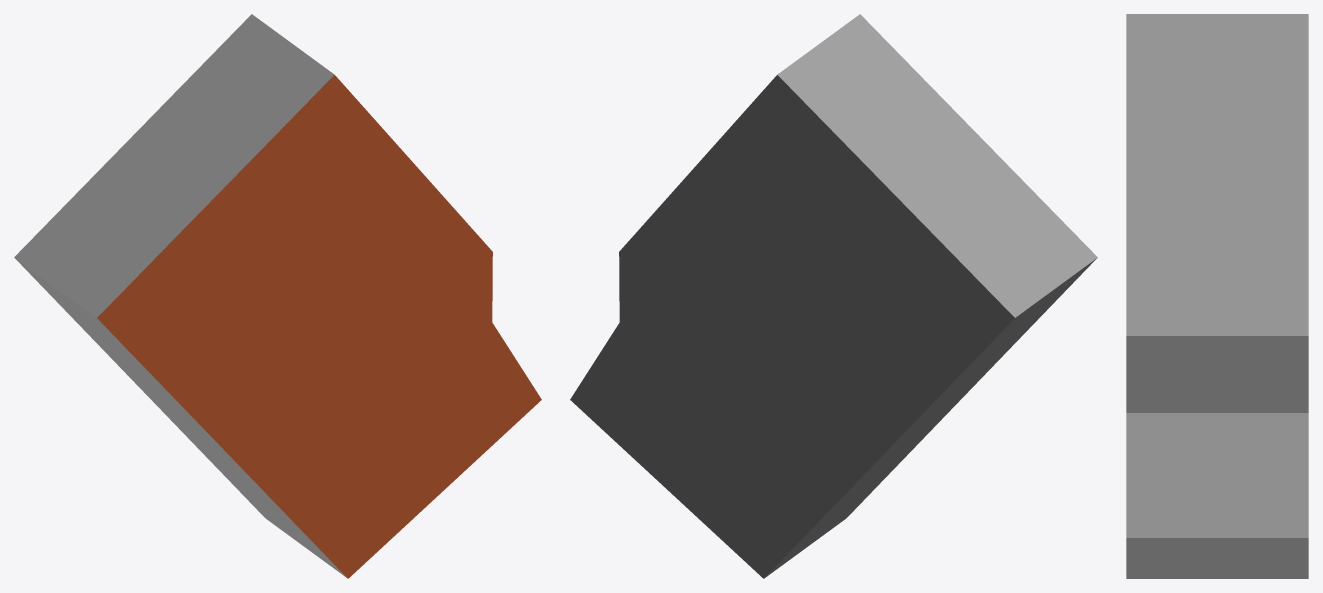
The model's file is construction_2990_assumed_A_Casa_h6m.obj.
3 renders of one model, left to right at view 1: azimuth 30°, elevation 25°; view 2: azimuth 150°, elevation 25°; view 3: azimuth 270°, elevation 25°, orthographic. The views are drawn at different scales.
Visible parts, largest first — view 1: construction_2990_assumed_A_Casa; view 2: construction_2990_assumed_A_Casa; view 3: construction_2990_assumed_A_Casa.
Part boxes in pixels (left/top/right/bottom): construction_2990_assumed_A_Casa: left=14, top=14, right=541, bottom=578; construction_2990_assumed_A_Casa: left=570, top=14, right=1097, bottom=578; construction_2990_assumed_A_Casa: left=1126, top=14, right=1308, bottom=578.
Bounding box in the file's own units: 18.6 × 20.27 × 6.
